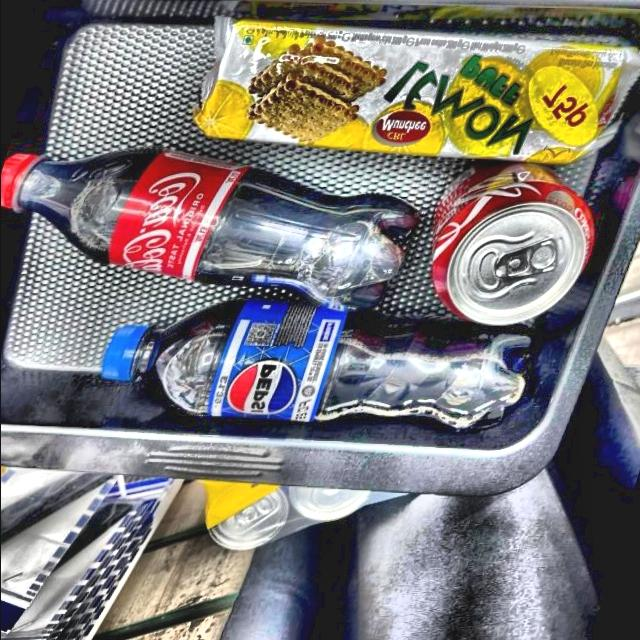coke-bottle: (1, 124, 420, 312)
coke-can: (427, 162, 592, 320)
lemon puff: (190, 11, 640, 162)
pepsi-bottle: (96, 305, 524, 431)
